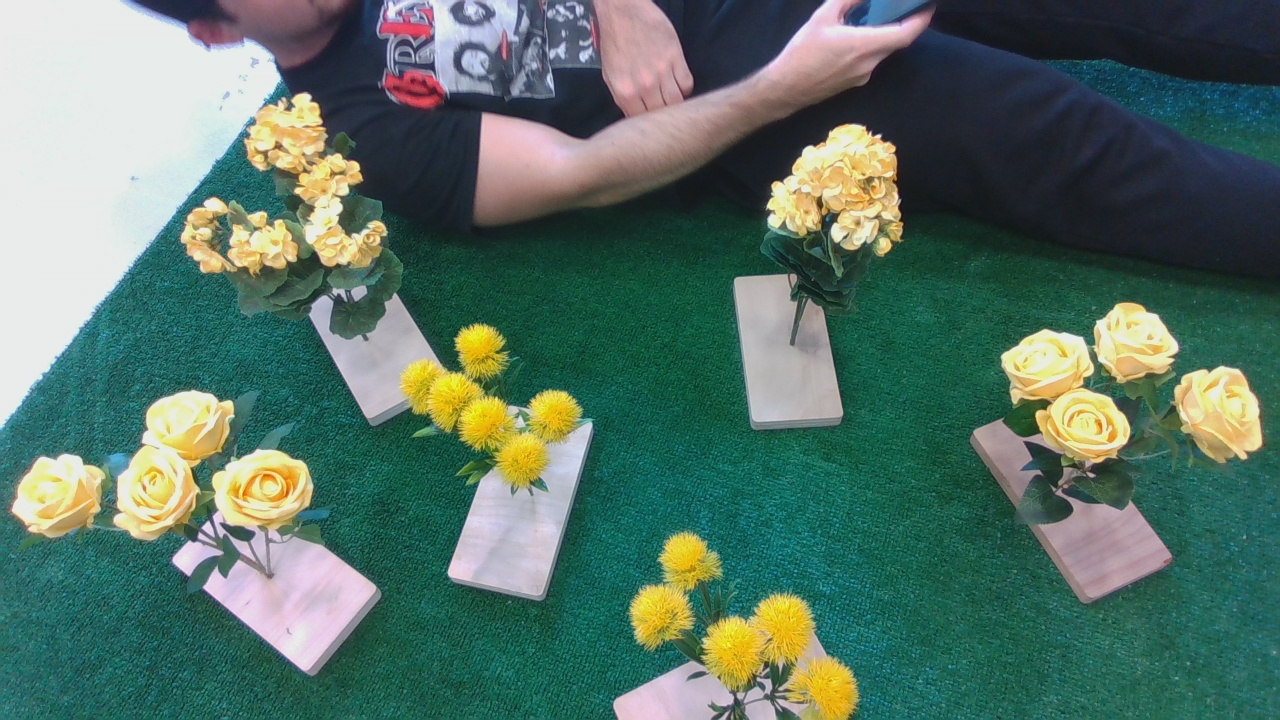dandelion: (613, 537, 874, 720), (398, 328, 610, 494)
geranium: (185, 90, 424, 315), (753, 127, 918, 309)
rose: (13, 383, 329, 601), (998, 300, 1270, 529)
